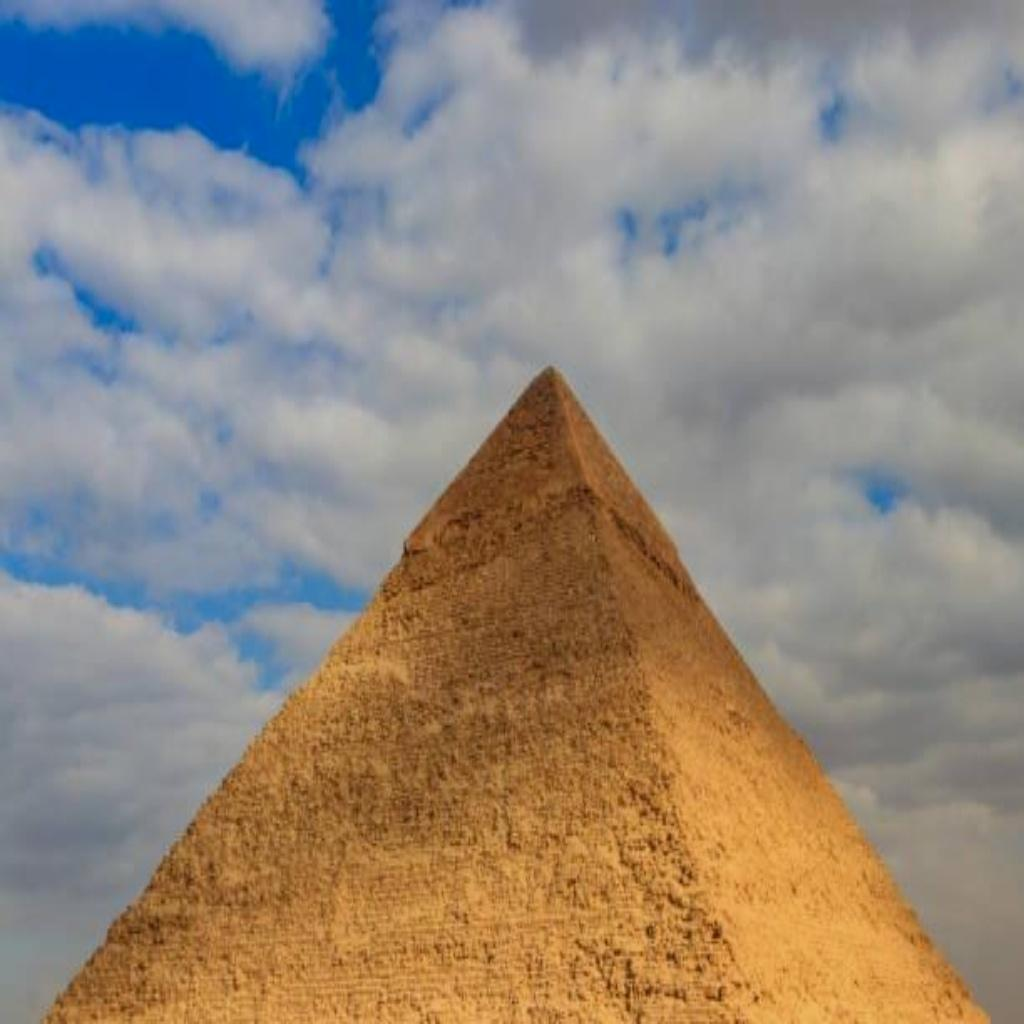Great Pyramids of Giza: (38, 359, 990, 1019)
